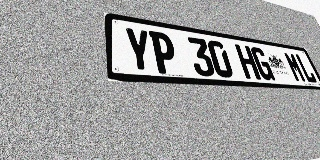0: (206, 40, 234, 78)
3: (187, 37, 216, 77)
G: (250, 46, 276, 81)
H: (234, 44, 261, 80)
L: (294, 53, 318, 83)
M: (283, 52, 307, 83)
P: (149, 31, 179, 75)
Y: (123, 27, 154, 73)
